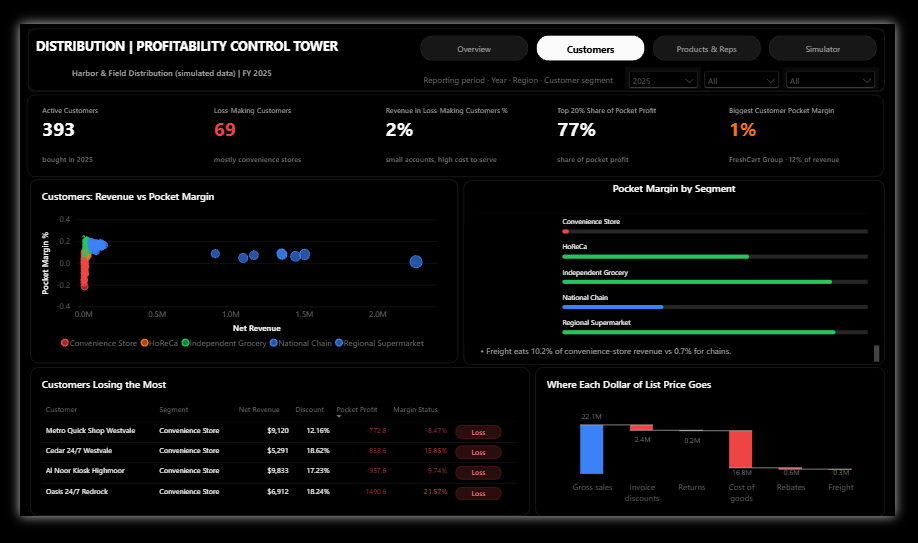

What the dashboard file says about the page in this screenshot:
{"tool":"powerbi","page":{"name":"Customers","canvas":[1280,720],"ordinal":1},"visuals":[{"type":"shape","box":[11.5,7.2,1252.6,91.8],"z":0,"group":"g1"},{"type":"shape","title":"Pocket Margin by Segment","box":[10,103.3,1252.6,120.5],"z":0},{"type":"cardVisual","fields":{"Data":["_Measures.Active Customers","_Measures.Loss-Making Customers","_Measures.Revenue in Loss-Making Customers %","_Measures.Top 20% Share of Pocket Profit","_Measures.Biggest Customer Pocket Margin"]},"box":[16,120,1248,98.8],"z":1000},{"type":"textbox","box":[23,21.3,522.6,30.1],"z":2000,"group":"g1"},{"type":"scatterChart","title":"Customers: Revenue vs Pocket Margin","fields":{"Category":["dim_customer.customer_name"],"Series":["dim_customer.segment"],"Size":["_Measures.Orders"],"X":["_Measures.Net Revenue"],"Y":["_Measures.Pocket Margin %"]},"box":[15.5,226.3,625.2,269.4],"z":2000},{"type":"cardVisual","fields":{"Data":["_Measures.Report Subtitle"]},"box":[60.4,58.9,521.8,24],"z":3000,"group":"g1"},{"type":"shape","title":"Pocket Margin by Segment","box":[648,228,616,270],"z":3000},{"type":"slicer","fields":{"Values":["dim_date.date.Variation.Date Hierarchy.Year"]},"box":[884,63.2,110.8,31.6],"z":4000,"group":"g1"},{"type":"tableEx","fields":{"Values":["dim_customer.segment","_Measures.SVG Segment Bar","_Measures.Pocket Margin %"]},"box":[650,233.9,605.5,266.9],"z":4000},{"type":"pageNavigator","box":[585.3,17.8,669.5,37.3],"z":5000,"group":"g1"},{"type":"textbox","box":[662.9,470.6,592.6,27.3],"z":5000},{"type":"slicer","fields":{"Values":["dim_customer.region"]},"box":[994.9,63.2,119.5,31.6],"z":6000,"group":"g1"},{"type":"tableEx","title":"Customers Losing the Most","fields":{"Values":["dim_customer.customer_name","dim_customer.segment","_Measures.Net Revenue","_Measures.Discount %","_Measures.Pocket Profit","_Measures.Pocket Margin %","_Measures.SVG Customer Pill"]},"box":[15.5,500.9,730.6,217.6],"z":6000},{"type":"slicer","fields":{"Values":["dim_customer.segment"]},"box":[1114.4,63.2,140.5,32],"z":7000,"group":"g1"},{"type":"waterfallChart","title":"Where Each Dollar of List Price Goes","fields":{"Category":["Waterfall Steps.Step"],"Y":["_Measures.Waterfall Value"]},"box":[753,500.9,511.2,219.4],"z":7000},{"type":"group","id":"g1","title":"Group 1","box":[11.5,7.2,1252.6,91.8],"z":8000},{"type":"textbox","box":[590.3,73.2,293.6,22.2],"z":8000,"group":"g1"}]}

Visuals, with their boxes on the page's 1280x720 design canvas (x1, y1, x2, y2). These are canvas units, not pixel positions in the 918x543 screenshot, which may show the page scaled, cropped or inside an application window:
shape: bbox(12, 7, 1264, 99)
"Pocket Margin by Segment" shape: bbox(10, 103, 1263, 224)
cardVisual - _Measures.Active Customers x _Measures.Loss-Making Customers: bbox(16, 120, 1264, 219)
textbox: bbox(23, 21, 546, 51)
"Customers: Revenue vs Pocket Margin" scatterChart: bbox(16, 226, 641, 496)
cardVisual - _Measures.Report Subtitle: bbox(60, 59, 582, 83)
"Pocket Margin by Segment" shape: bbox(648, 228, 1264, 498)
slicer - dim_date.date.Variation.Date Hierarchy.Year: bbox(884, 63, 995, 95)
tableEx - dim_customer.segment x _Measures.SVG Segment Bar: bbox(650, 234, 1256, 501)
pageNavigator: bbox(585, 18, 1255, 55)
textbox: bbox(663, 471, 1256, 498)
slicer - dim_customer.region: bbox(995, 63, 1114, 95)
"Customers Losing the Most" tableEx: bbox(16, 501, 746, 718)
slicer - dim_customer.segment: bbox(1114, 63, 1255, 95)
"Where Each Dollar of List Price Goes" waterfallChart: bbox(753, 501, 1264, 720)
"Group 1" group: bbox(12, 7, 1264, 99)
textbox: bbox(590, 73, 884, 95)
